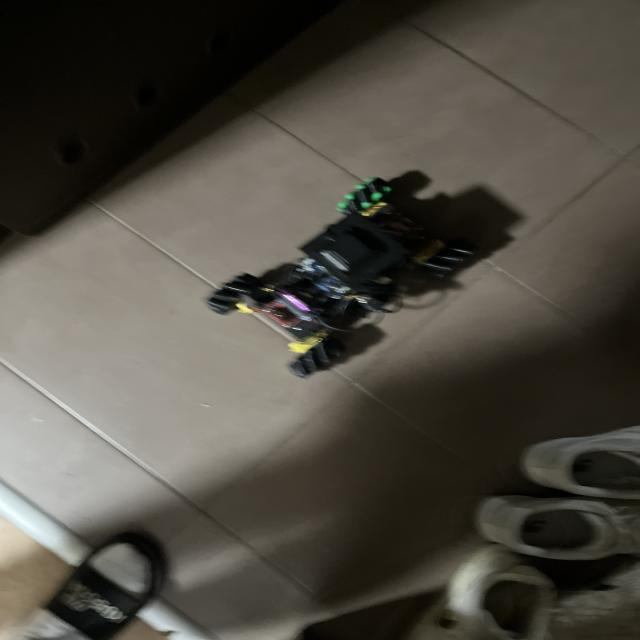robot: (207, 177, 476, 378)
